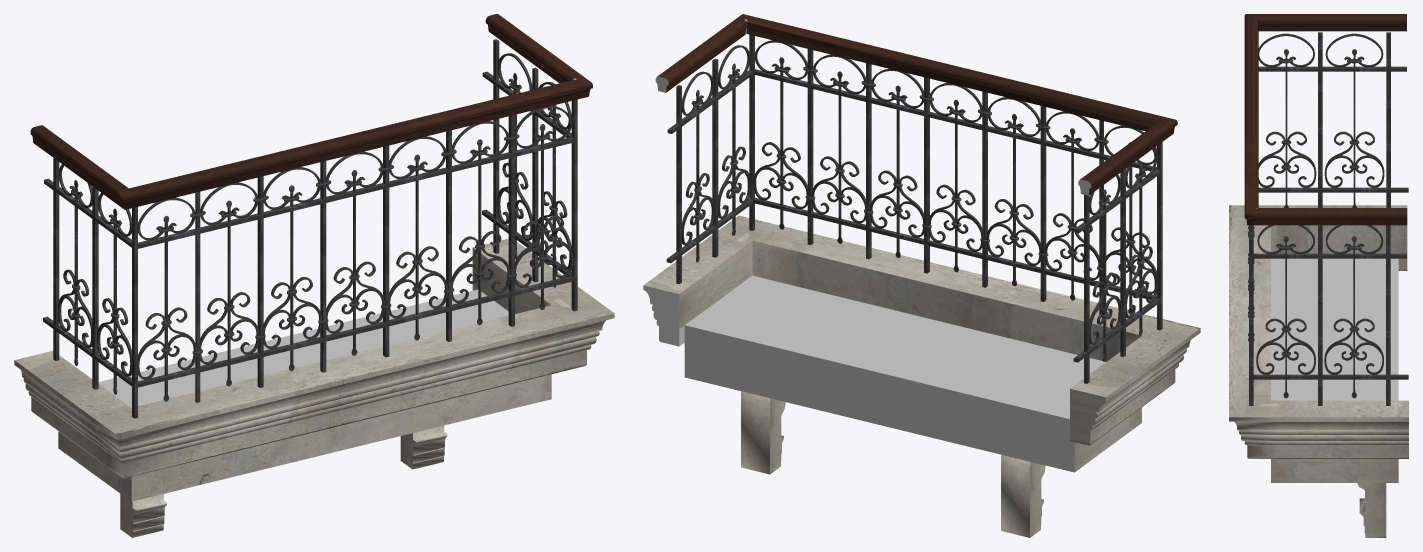
Rendered from balcony.glb.
3 views of the same model, side by side, from view 1: azimuth 30°, elevation 25°; view 2: azimuth 150°, elevation 25°; view 3: azimuth 270°, elevation 25° (orthographic). The views are drawn at different scales.
Visible parts, largest first — view 1: Loft01, Box02, Loft03, Line11, Line10, ar0315m, ar0315m001, Line09, Line06, Line05, Line04, Line08 (+7 smaller); view 2: Box02, Loft01, Loft03, ar0315m001, ar0315m, Line11, Line10, Line08, Line04, Line15, Line16, Line05 (+6 smaller); view 3: Loft01, Box02, Loft03, ar0315m001, Line16, Line15, Line09, Line44, Line61, Line13, Line12, Line60 (+17 smaller).
Part boxes in pixels (x1,y1,x2,y2): Loft01: (14, 238, 614, 478); Box02: (58, 289, 551, 501); Loft03: (30, 14, 592, 209); Line11: (136, 275, 576, 387); Line10: (138, 137, 576, 248); ar0315m: (120, 494, 166, 537); ar0315m001: (400, 425, 447, 469); Line09: (571, 99, 577, 311); Line06: (383, 145, 389, 357); Line05: (320, 161, 326, 372); Line04: (257, 176, 263, 387); Line08: (508, 115, 514, 326); Box02: (684, 275, 1141, 472); Loft01: (643, 215, 1200, 445); Loft03: (655, 14, 1177, 195); ar0315m001: (741, 391, 785, 474); ar0315m: (1001, 454, 1045, 537); Line11: (753, 197, 1156, 299); Line10: (753, 69, 1156, 171); Line08: (807, 49, 813, 244); Line04: (1040, 106, 1046, 301); Line15: (712, 58, 718, 257); Line16: (676, 85, 681, 284); Line05: (982, 91, 987, 287); Loft01: (1229, 205, 1408, 458); Box02: (1271, 258, 1398, 482); Loft03: (1244, 14, 1407, 225); ar0315m001: (1357, 483, 1386, 537); Line16: (1386, 225, 1390, 405); Line15: (1318, 225, 1322, 405); Line09: (1249, 225, 1253, 405); Line44: (1258, 187, 1408, 192); Line61: (1253, 374, 1408, 379); Line13: (1386, 32, 1390, 207); Line12: (1318, 32, 1322, 207); Line60: (1251, 253, 1406, 258).
Bounding box in the file's own units: 215 × 170 × 76.98.
Materials: 5 (3 with a texture image).
